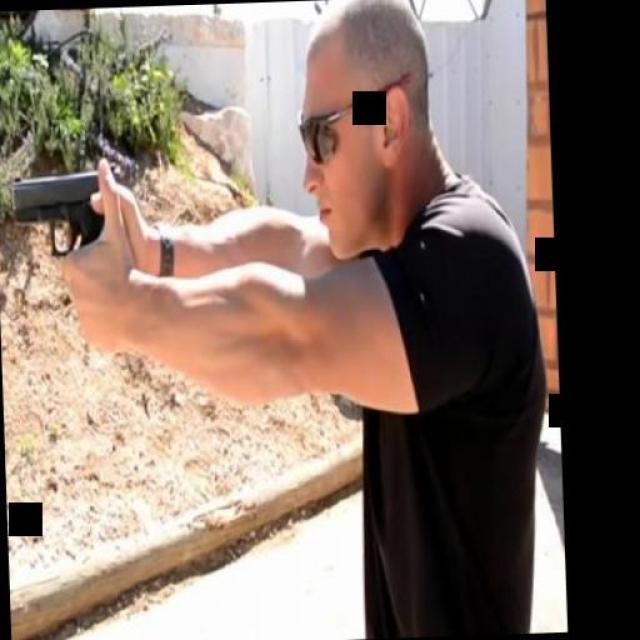gun: (8, 161, 140, 350)
